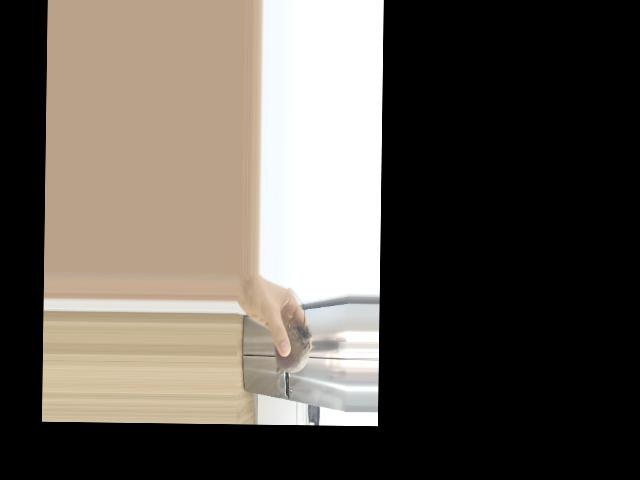beet: (274, 287, 312, 381)
